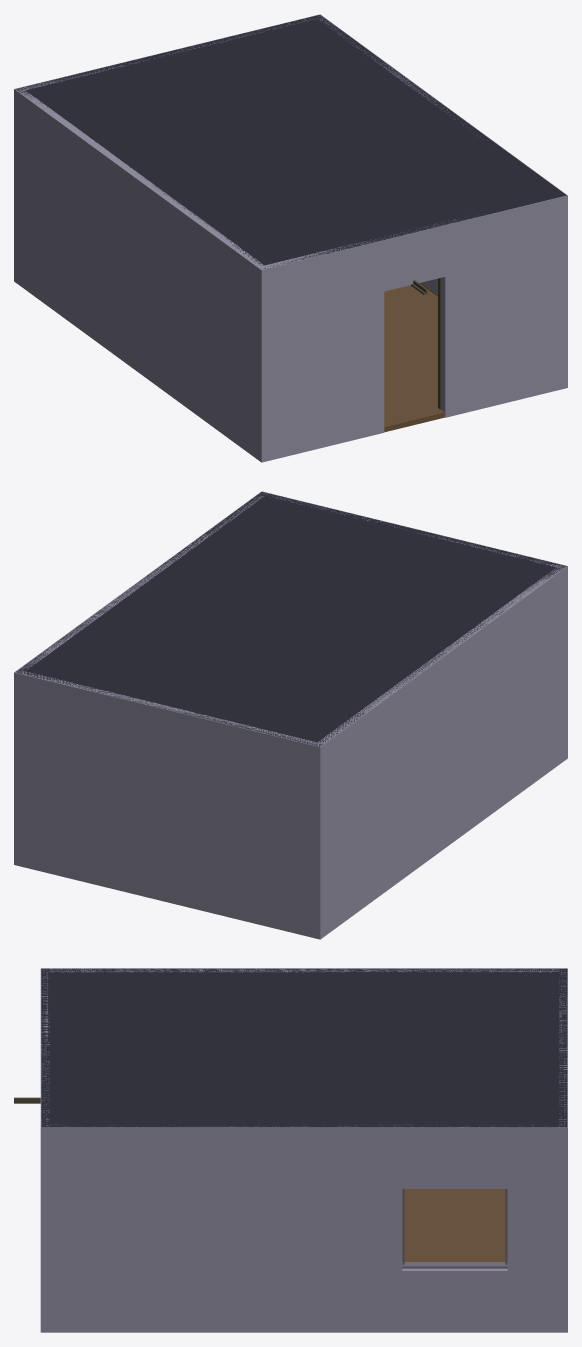
File: apartment_envelope.glb
The picture shows the model from 3 angles, top to bottom: view 1: azimuth 30°, elevation 25°; view 2: azimuth 150°, elevation 25°; view 3: azimuth 270°, elevation 25°; orthographic projection. The views are drawn at different scales.
Visible parts, largest first — view 1: floor; view 2: floor; view 3: floor.
Boxes of the visible parts, bbox=[...] form: floor: bbox=[14, 14, 567, 462]; floor: bbox=[14, 491, 567, 939]; floor: bbox=[14, 968, 567, 1332].
Size of the model in its own units: 5 by 3 by 7.35.
Materials: 1 (1 with a texture image).
